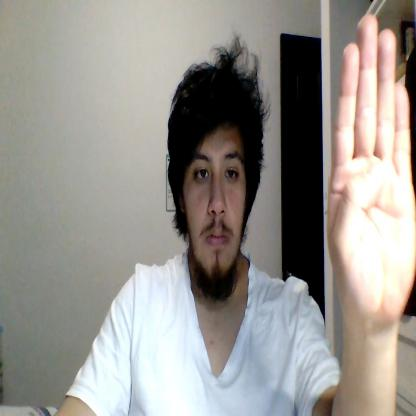B: (326, 13, 416, 324)
